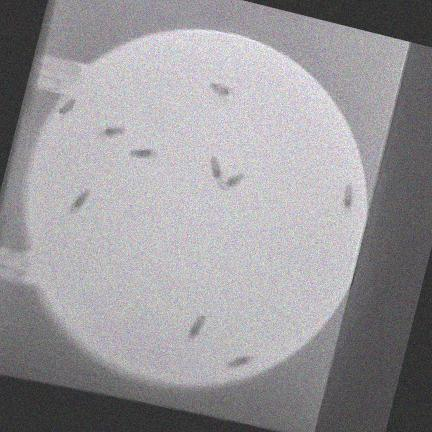fly: (69, 190, 90, 214), (188, 315, 205, 339), (209, 82, 231, 97), (228, 355, 253, 368), (100, 126, 124, 138), (226, 173, 244, 188), (131, 149, 157, 159), (343, 185, 353, 210), (210, 157, 221, 179), (60, 99, 75, 115)
